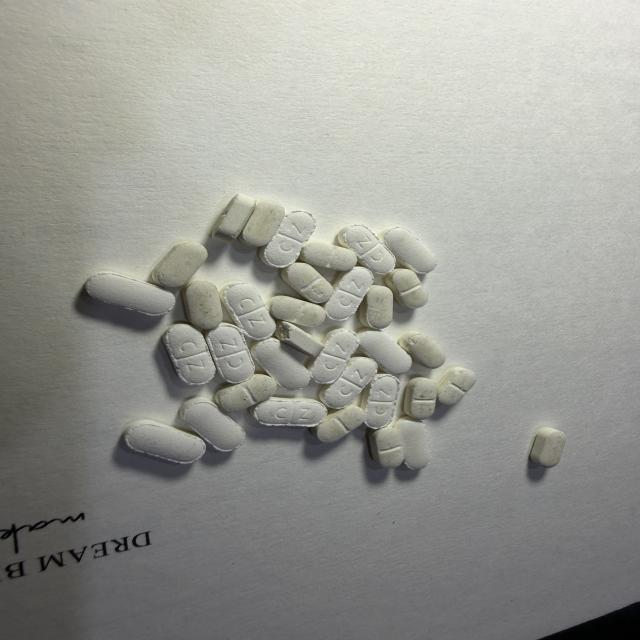pill: (85, 272, 175, 315), (123, 419, 205, 463), (180, 397, 245, 451), (259, 211, 315, 268), (163, 324, 216, 384), (221, 283, 275, 339), (252, 338, 310, 390), (320, 357, 377, 408), (206, 323, 254, 383), (338, 225, 395, 274), (379, 227, 436, 273), (151, 242, 207, 288), (325, 267, 373, 320), (311, 329, 358, 383), (358, 330, 412, 375), (215, 374, 277, 412), (251, 398, 327, 427), (212, 194, 256, 242), (239, 200, 284, 246), (282, 263, 333, 303), (311, 404, 364, 442), (182, 280, 222, 329), (363, 374, 399, 428), (393, 418, 430, 469), (398, 331, 445, 368), (269, 296, 326, 326), (275, 321, 323, 356), (385, 269, 427, 308), (301, 242, 357, 270), (368, 426, 404, 468), (359, 285, 393, 329), (438, 367, 476, 405), (530, 427, 566, 467), (404, 377, 437, 419)
